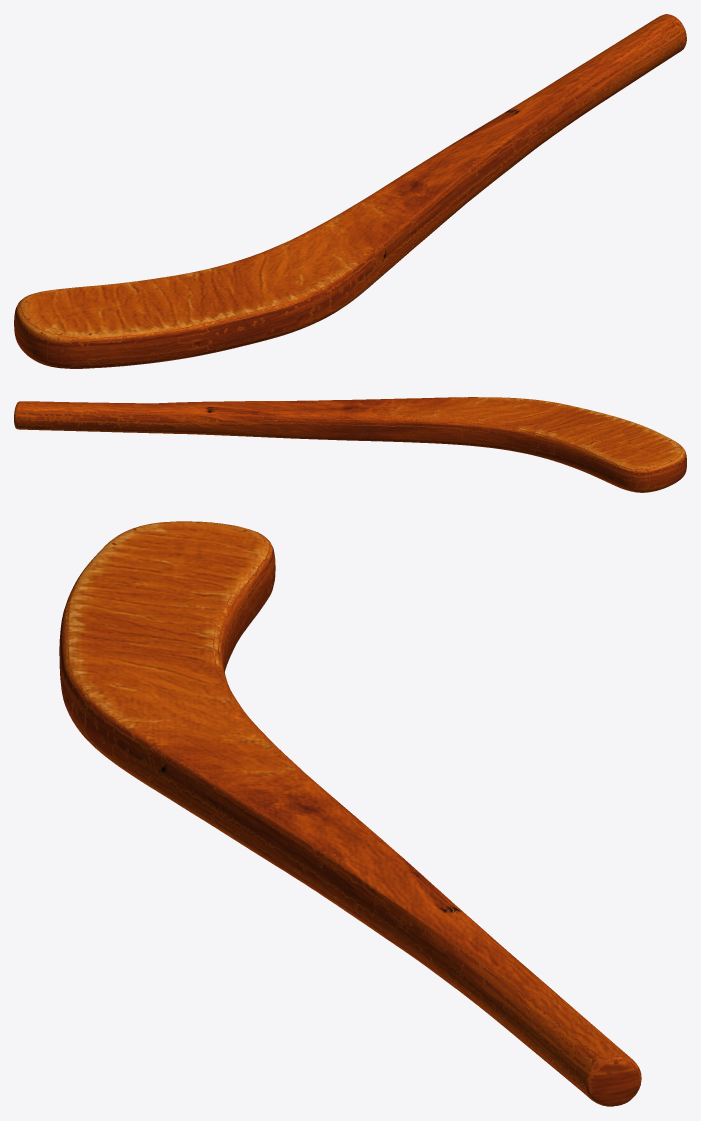
3 views of the same model, one above another, from view 1: azimuth 30°, elevation 25°; view 2: azimuth 150°, elevation 25°; view 3: azimuth 270°, elevation 25° (orthographic). The views are drawn at different scales.
Size of the model in its own units: 1.86 by 0.0821 by 0.8382.
Materials: 1 (1 with a texture image).
